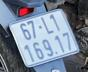1: (51, 33, 67, 54), (47, 12, 63, 32), (22, 42, 36, 64)
6: (30, 40, 46, 61), (18, 21, 33, 42)
7: (25, 18, 40, 40), (61, 31, 74, 52)
9: (40, 38, 55, 58)
L: (38, 14, 55, 36)
